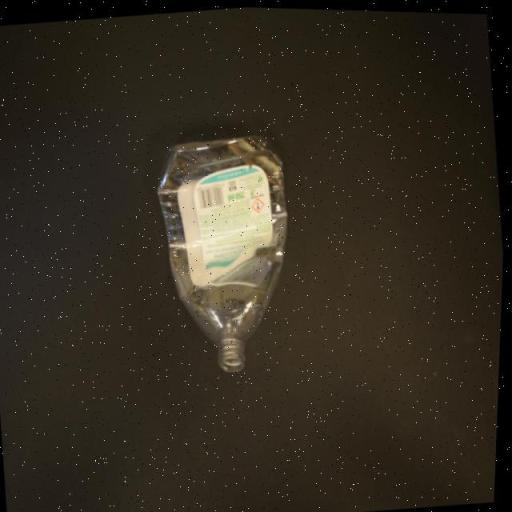plastic: (146, 125, 306, 379)
